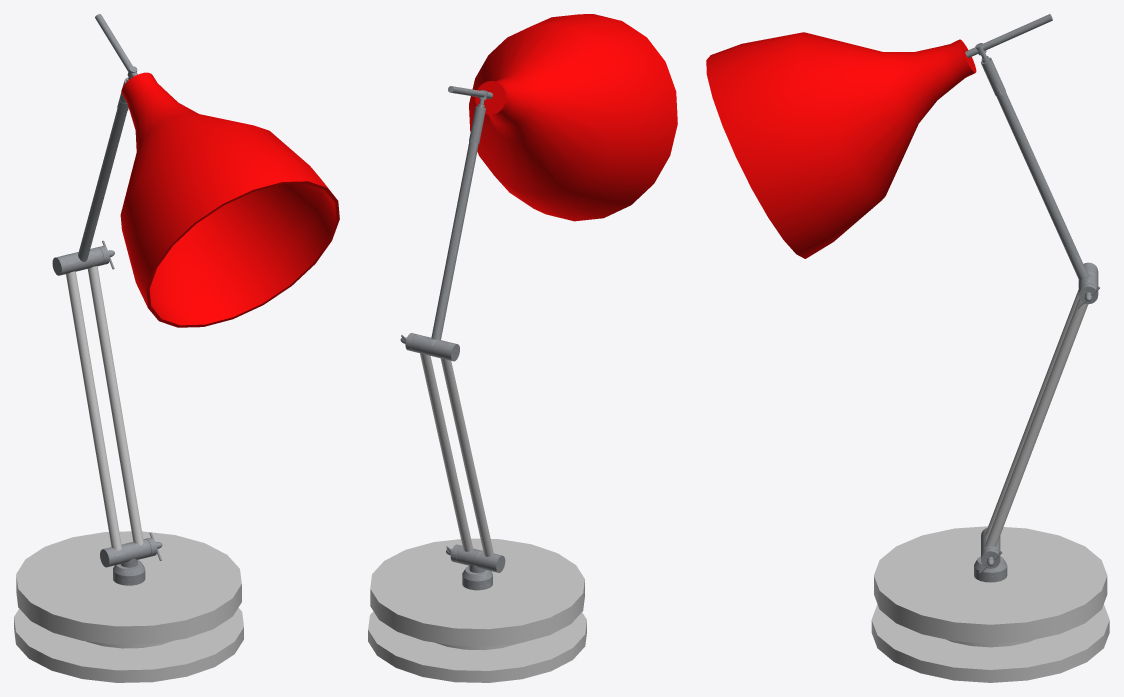
The model's file is lamp-bureaucrat.fbx.
3 views of the same model, side by side, from view 1: azimuth 30°, elevation 25°; view 2: azimuth 150°, elevation 25°; view 3: azimuth 270°, elevation 25° (orthographic). The views are drawn at different scales.
Parts seen in each view (by area): view 1: pCylinder11, pCylinder1, pCylinder6, pCylinder5, pCylinder9, pCylinder3, pCylinder7, pCylinder2, pCylinder10; view 2: pCylinder11, pCylinder1, pCylinder9, pCylinder5, pCylinder6, pCylinder7, pCylinder3, pCylinder2; view 3: pCylinder11, pCylinder1, pCylinder6, pCylinder9, pCylinder5, pCylinder10, pCylinder7.
Part boxes in pixels (box(x1,y1,x2,y2)): pCylinder11: box(120, 72, 339, 327); pCylinder1: box(14, 531, 243, 682); pCylinder6: box(87, 266, 143, 545); pCylinder5: box(66, 271, 121, 550); pCylinder9: box(78, 66, 137, 261); pCylinder3: box(100, 537, 157, 567); pCylinder7: box(52, 246, 109, 275); pCylinder2: box(113, 558, 145, 585); pCylinder10: box(95, 14, 137, 77); pCylinder11: box(469, 14, 677, 221); pCylinder1: box(368, 538, 586, 682); pCylinder9: box(431, 90, 487, 339); pCylinder5: box(440, 358, 493, 556); pCylinder6: box(420, 353, 472, 551); pCylinder7: box(405, 333, 459, 361); pCylinder3: box(450, 544, 505, 572); pCylinder2: box(462, 564, 492, 590); pCylinder11: box(706, 32, 976, 258); pCylinder1: box(871, 526, 1109, 682); pCylinder6: box(985, 298, 1088, 546); pCylinder9: box(975, 43, 1087, 280); pCylinder5: box(985, 290, 1079, 535); pCylinder10: box(965, 14, 1052, 58); pCylinder7: box(1078, 262, 1098, 304).
Size of the model in its own units: 1.42 by 4.06 by 2.4.
